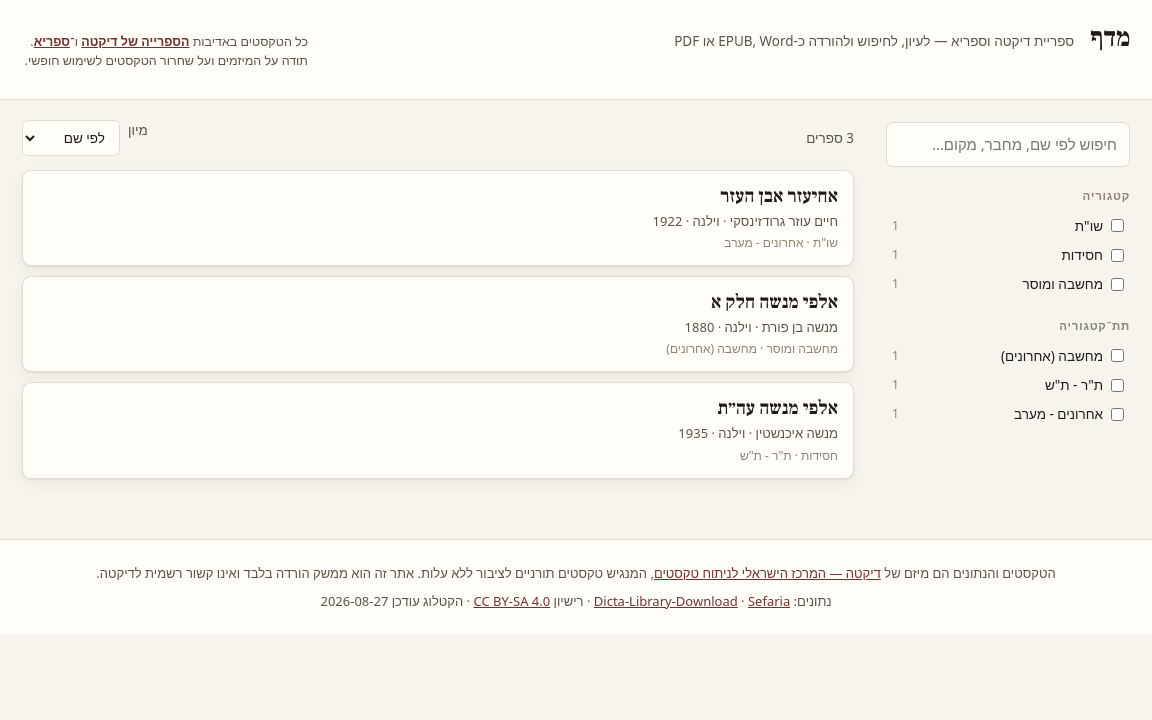
Test case: filtering › clears every filter at once
The image size is (1152, 720).
Expected: the text "אלפי מנשה חלק א" is shown, 711,290 -> 838,314
Click the checkbox labelled "חסידות 1": (1118, 255) 1111,249 -> 1124,262
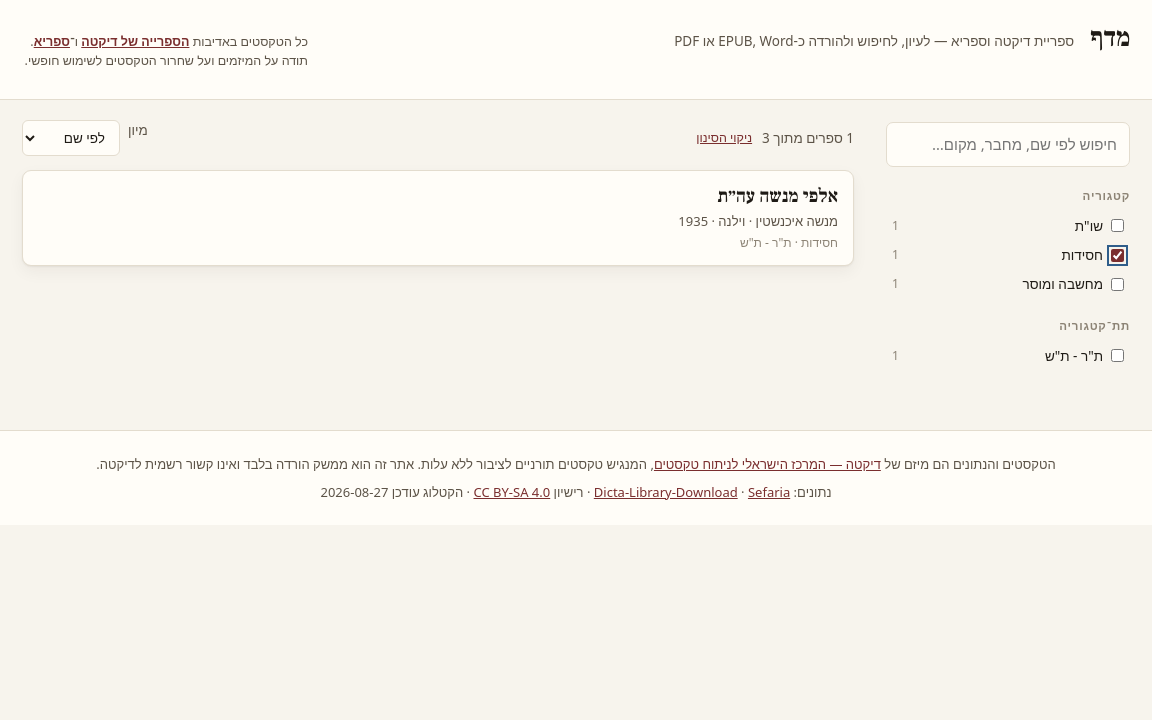
Expected: the text "1 ספרים מתוך 3" is shown, 762,128 -> 854,148
Click the button "ניקוי הסינון": (724, 138) 696,129 -> 752,147
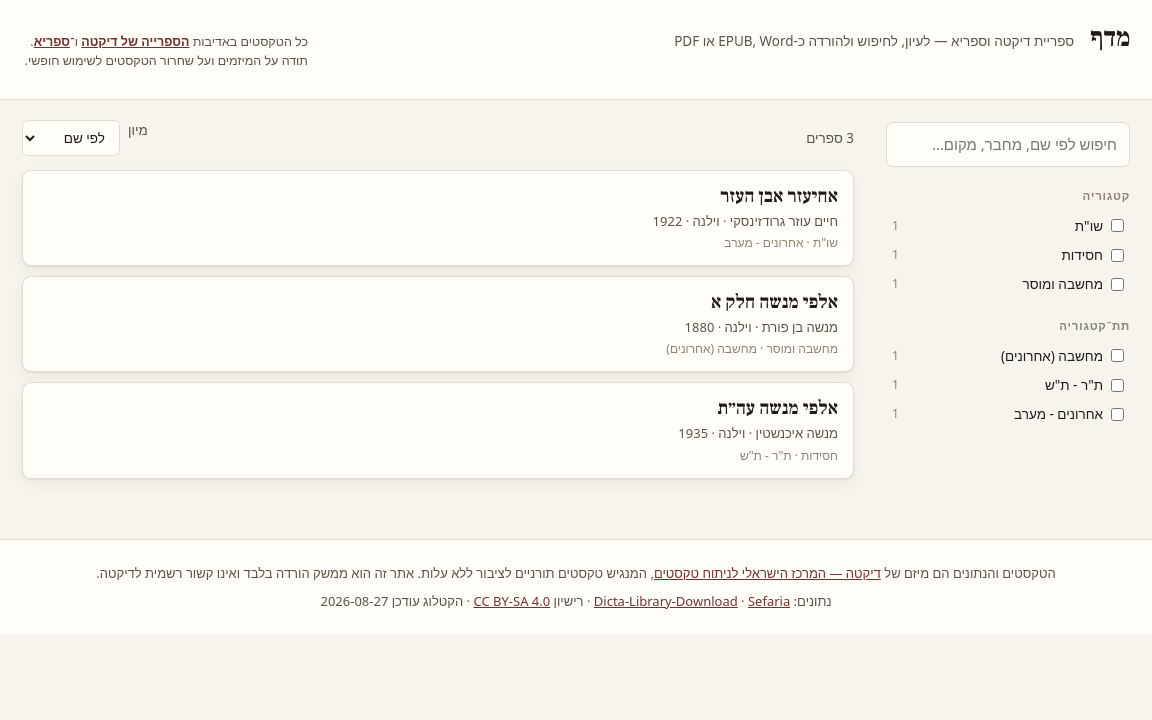
Expected: the text "3 ספרים" is shown, 806,128 -> 854,148
